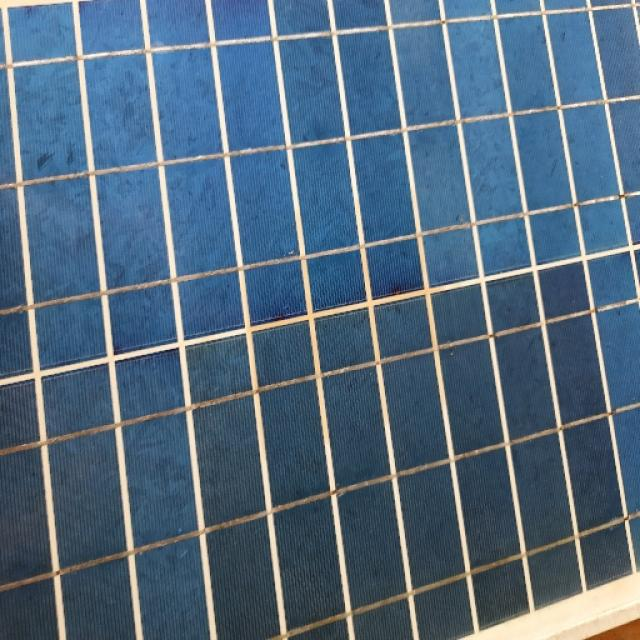Clean: (2, 29, 640, 640)
